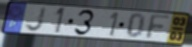0: (126, 13, 147, 40)
1: (54, 7, 66, 36), (109, 12, 121, 38)
3: (72, 9, 97, 37)
F: (143, 14, 174, 41)
J: (24, 6, 48, 33)
